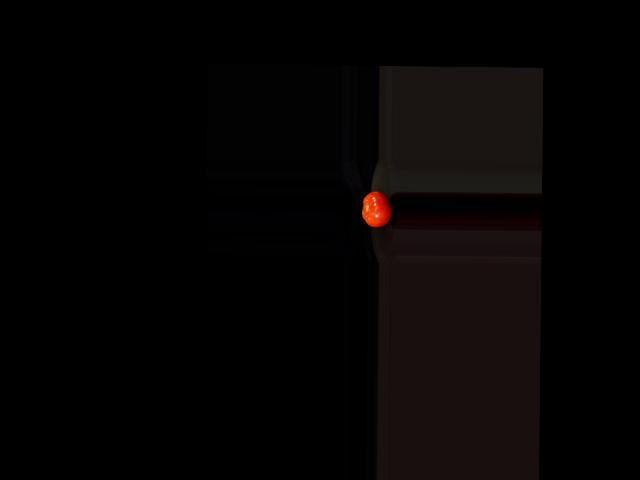tomato: (362, 191, 392, 228)
